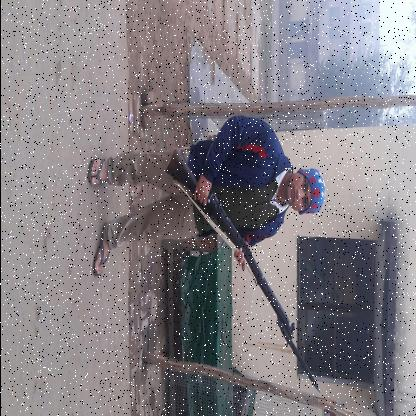rifle: (163, 146, 323, 397)
